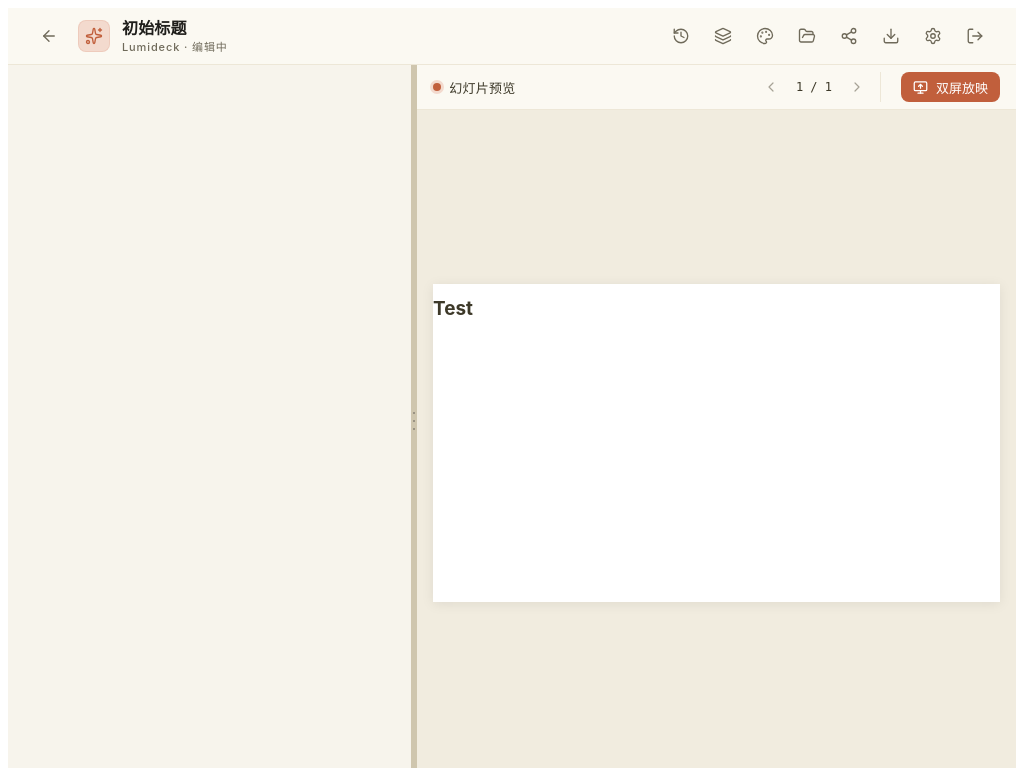
Scenario: DeckEditorCanvas · title inline 编辑 › Esc 取消编辑 → displayTitle 保持原值，无 PUT
Double-click the text with class "deck-title" at [154, 28], box left=122, top=20, right=187, bottom=37
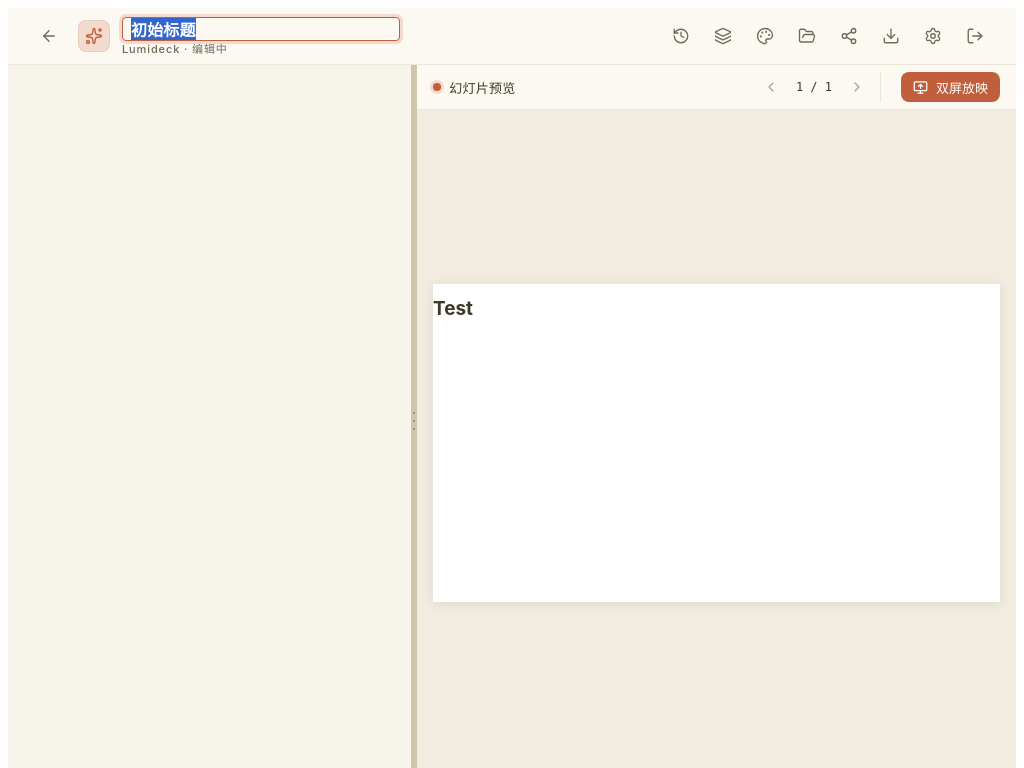
Replace the text in the field with class "deck-title-input" with "不要保存". click: [261, 29]
box: left=122, top=17, right=400, bottom=41
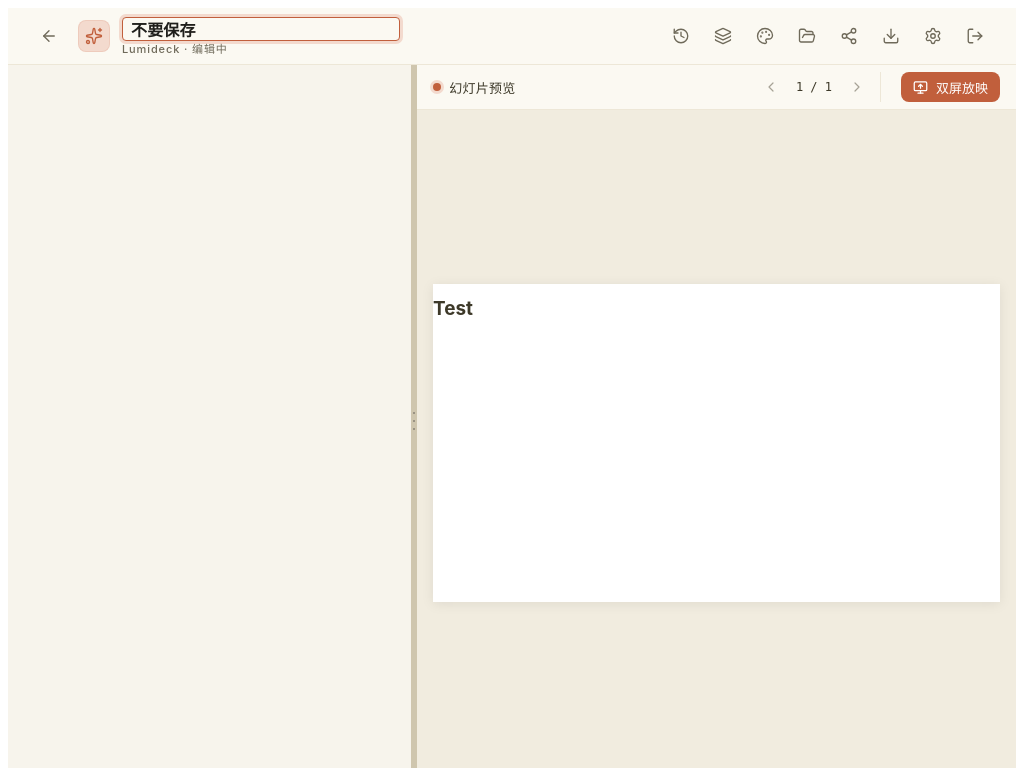
Press Escape in the field with class "deck-title-input", box left=122, top=17, right=400, bottom=41
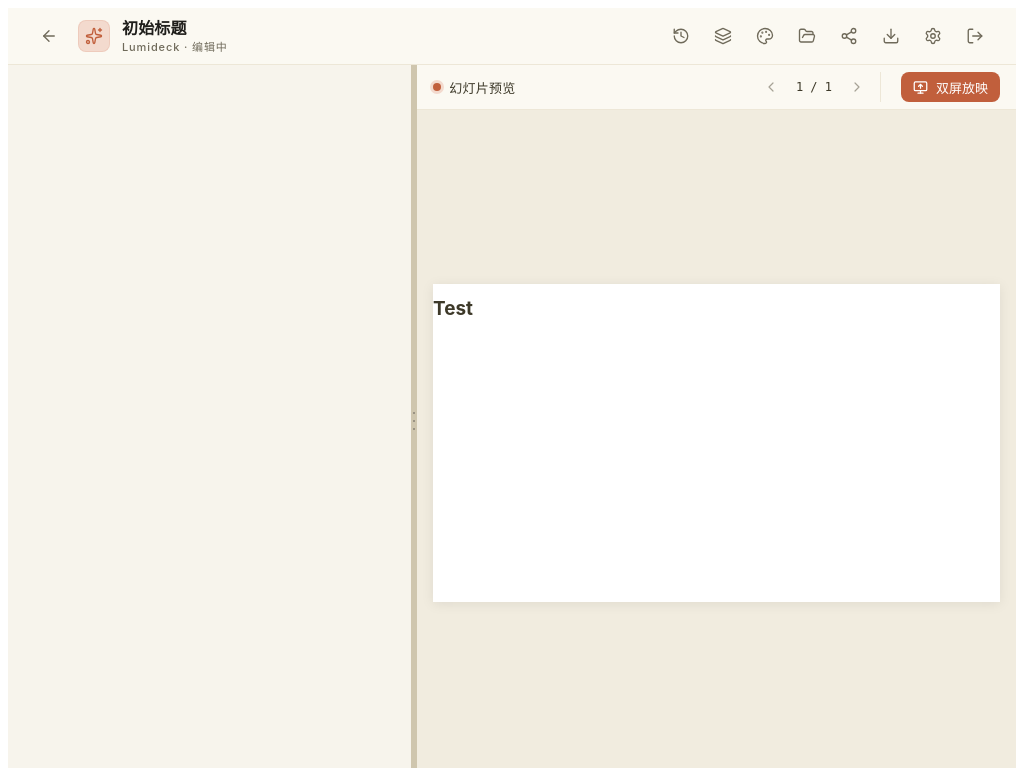
Result: the text "初始标题" is shown at left=122, top=20, right=187, bottom=37
